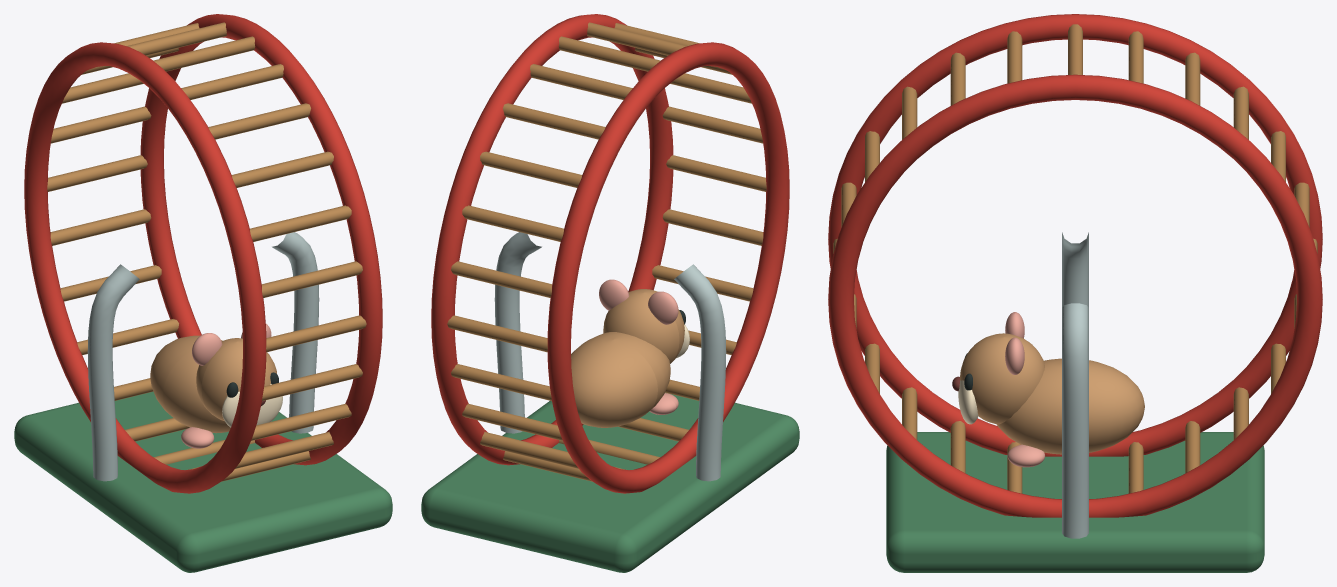
Rendered from hamster.glb.
3 views of the same model, side by side, from view 1: azimuth 30°, elevation 25°; view 2: azimuth 150°, elevation 25°; view 3: azimuth 270°, elevation 25° (orthographic). The views are drawn at different scales.
Parts seen in each view (by area): view 1: red, green, wood, steel, fur, skin, ivory; view 2: red, green, wood, fur, steel, skin; view 3: red, green, wood, fur, steel, skin.
Part boxes in pixels (x1,y1,x2,y2): red: [24, 14, 382, 493]; green: [14, 391, 392, 572]; wood: [47, 22, 366, 481]; steel: [87, 232, 319, 481]; fur: [150, 335, 276, 433]; skin: [181, 323, 271, 448]; ivory: [222, 384, 282, 427]; red: [431, 14, 789, 493]; green: [421, 392, 799, 572]; wood: [447, 22, 766, 481]; fur: [571, 289, 684, 427]; steel: [494, 232, 726, 481]; skin: [599, 279, 678, 414]; red: [828, 14, 1322, 517]; green: [886, 432, 1264, 572]; wood: [833, 24, 1317, 493]; fur: [960, 333, 1144, 454]; steel: [1062, 232, 1088, 538]; skin: [1005, 312, 1044, 467].
Bounding box in the file's own units: 0.372 × 0.697 × 0.654.
